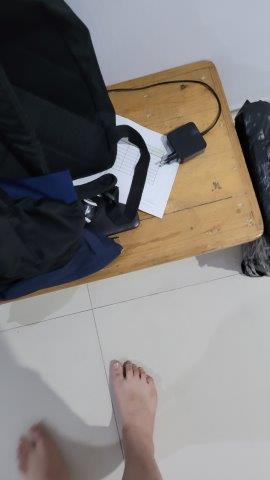kertas: (66, 112, 183, 222)
